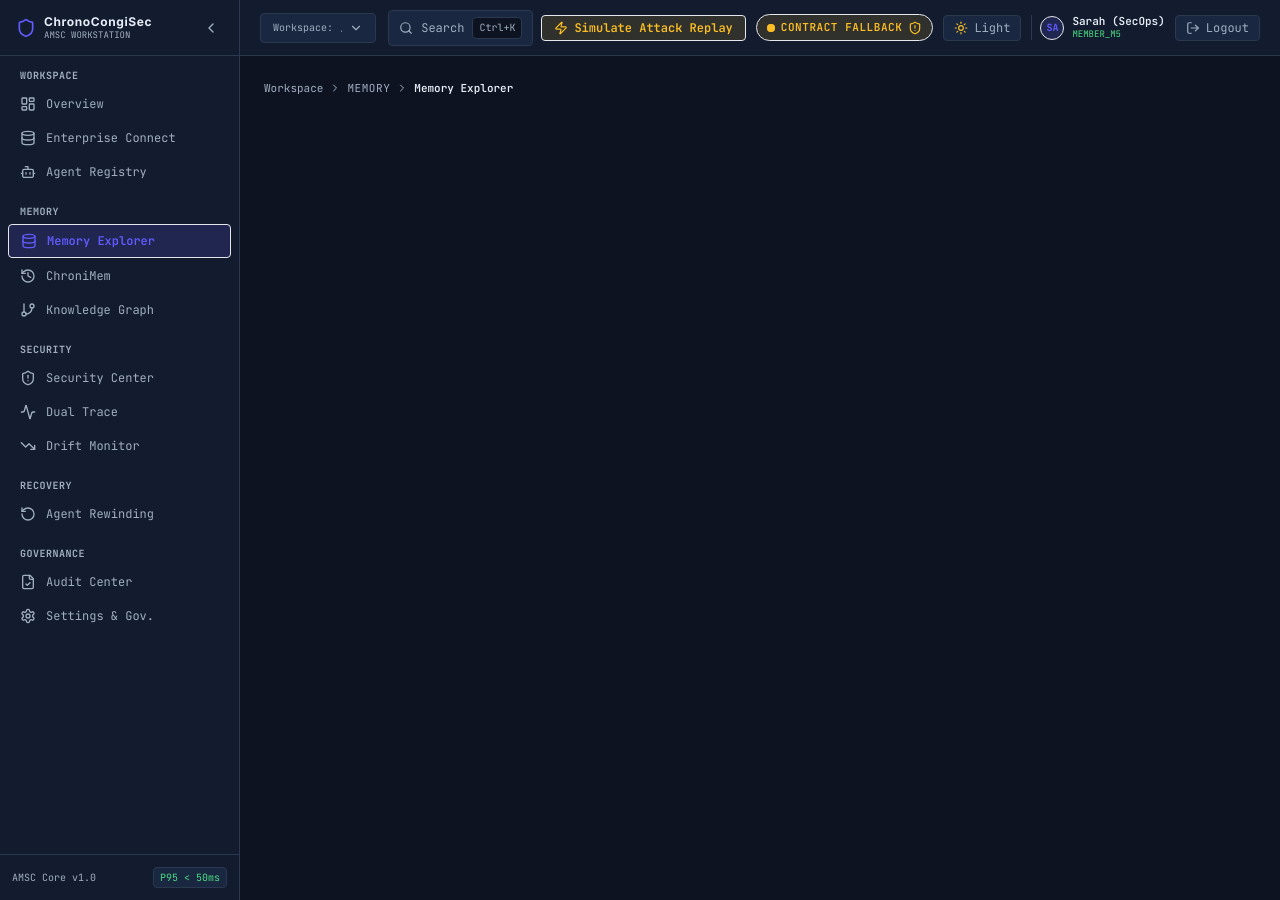
Test case: Screen States & Accessibility (A11y) › AppShell Theme Switcher (Dark Default & High-Contrast Light) › renders DOC-004 breadcrumb and keyboard-accessible workspace dropdown
Check: the navigation bar named "Breadcrumb" reads "Workspace MEMORY Memory Explorer", box [264, 81, 513, 95]
Click the button "Workspace:".
click(318, 28)  # box [260, 12, 376, 42]
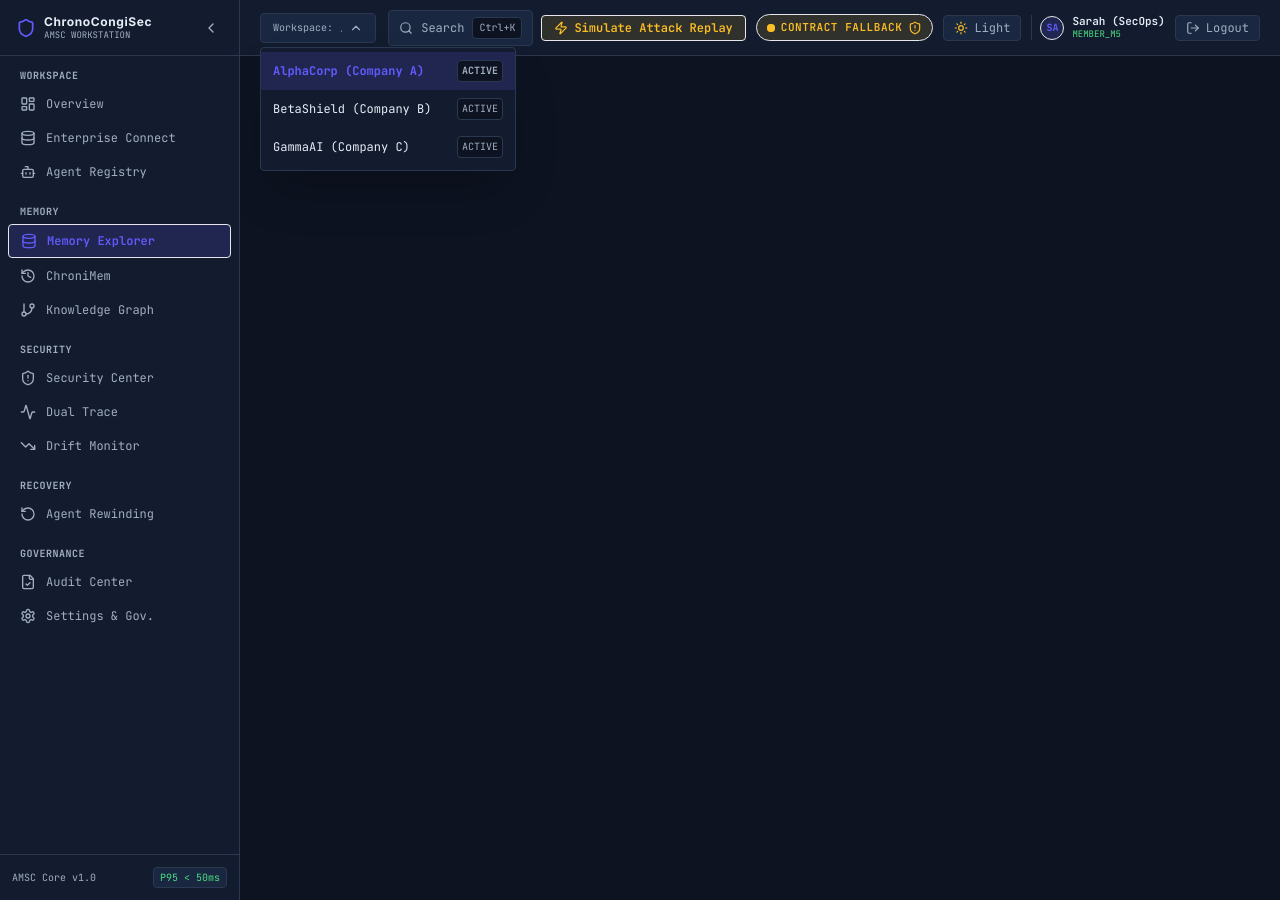
Check: the button "Workspace:" is expanded, box [260, 12, 376, 42]
Check: the list named "Select Workspace" is shown, box [260, 46, 516, 170]
Press Escape
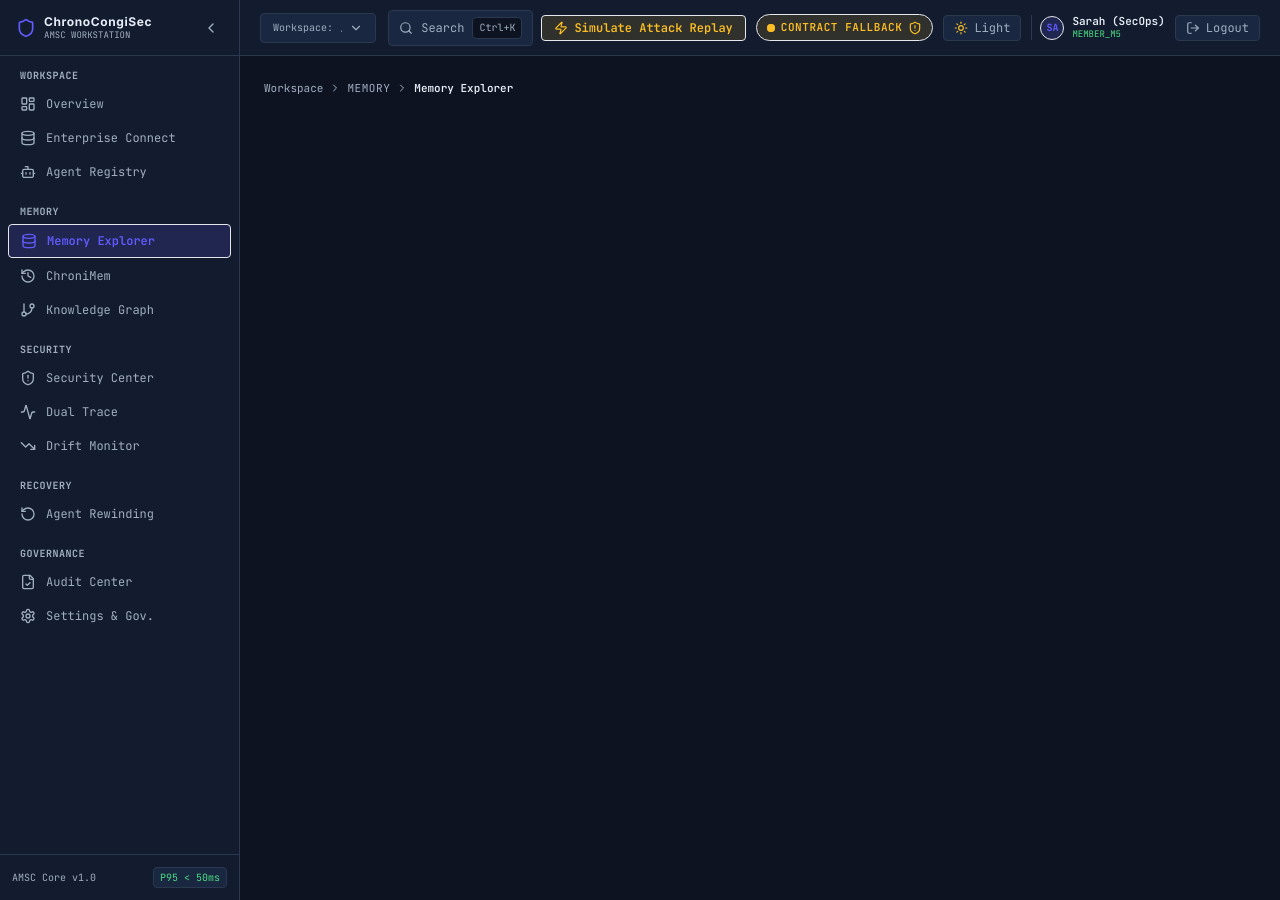
Check: the button "Workspace:" is collapsed, box [260, 12, 376, 42]
